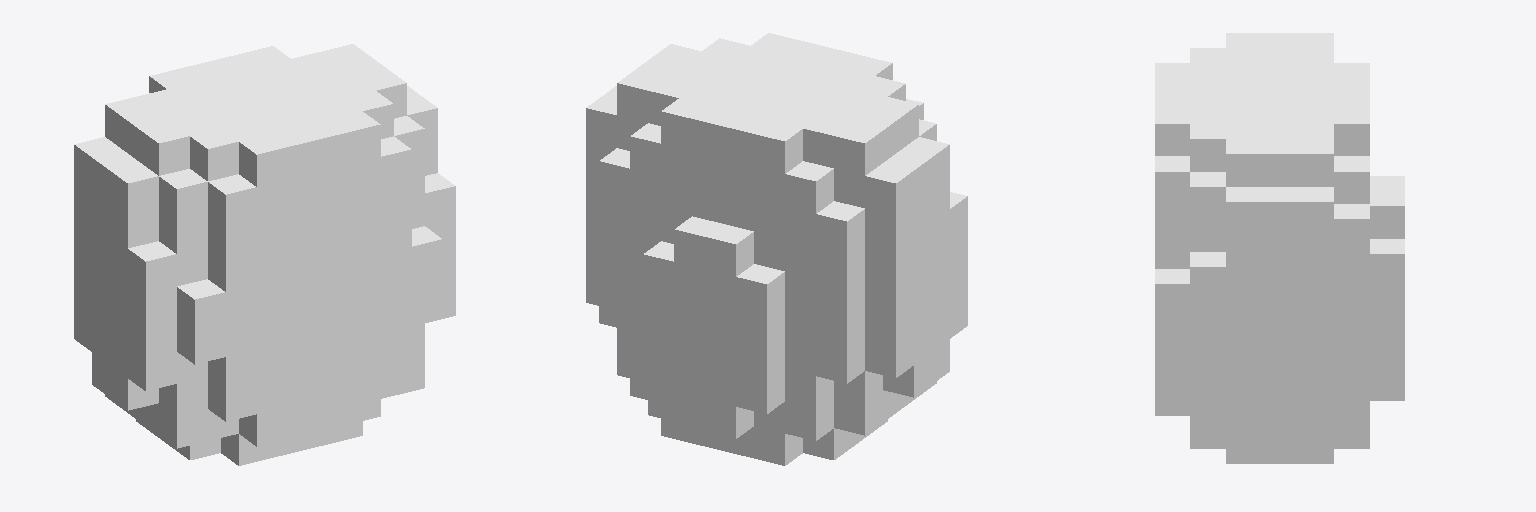
File: alian_1-6.obj
3 renders of one model, left to right at view 1: azimuth 30°, elevation 25°; view 2: azimuth 150°, elevation 25°; view 3: azimuth 270°, elevation 25°, orthographic.
Visible parts, largest first — view 1: object 1; view 2: object 1; view 3: object 1.
Boxes of the visible parts, x1,y1,x2,y2 form: object 1: [74, 44, 455, 465]; object 1: [586, 33, 967, 465]; object 1: [1155, 33, 1404, 463].
Bounding box in the file's own units: 1 × 1 × 0.7.